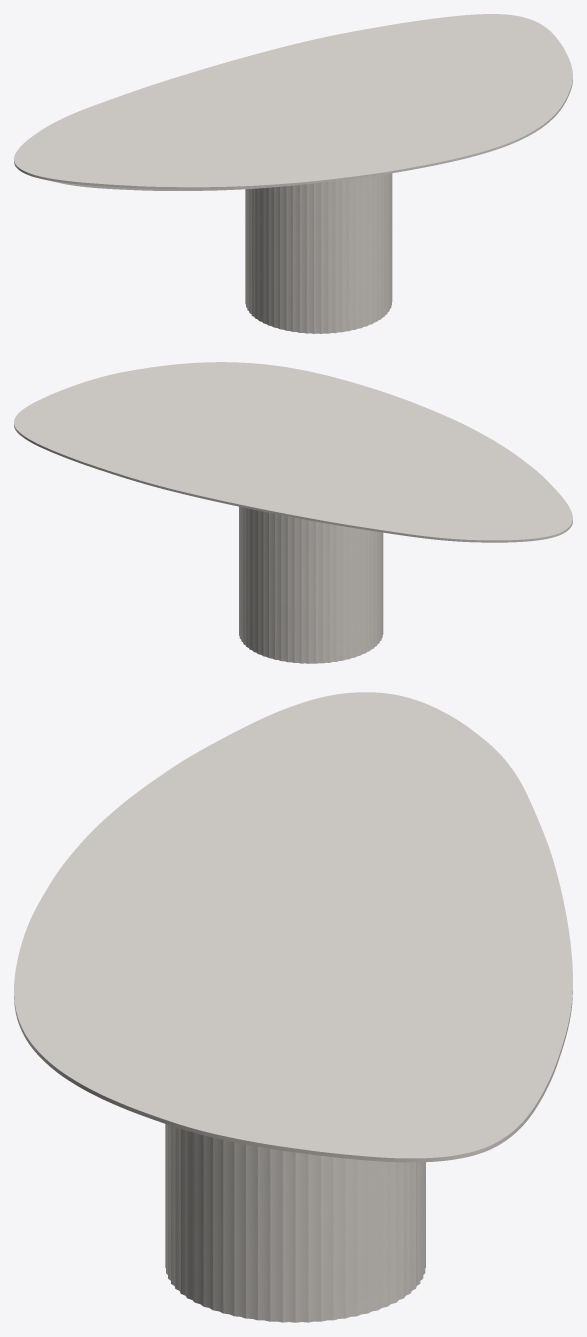
The model's file is pearlwhite_pebbletop_facet_ripple.glb.
3 views of the same model, one above another, from view 1: azimuth 30°, elevation 25°; view 2: azimuth 150°, elevation 25°; view 3: azimuth 270°, elevation 25° (orthographic). The views are drawn at different scales.
Visible parts, largest first — view 1: facet_pebbletop, ripple; view 2: facet_pebbletop, ripple; view 3: facet_pebbletop, ripple.
Boxes of the visible parts, x1=… form: facet_pebbletop: x1=14, y1=14, x2=572, y2=190; ripple: x1=245, y1=173, x2=392, y2=333; facet_pebbletop: x1=14, y1=362, x2=572, y2=542; ripple: x1=239, y1=506, x2=383, y2=663; facet_pebbletop: x1=14, y1=692, x2=572, y2=1162; ripple: x1=165, y1=1124, x2=425, y2=1322.
Bounding box in the file's own units: 7.5 × 2.5 × 3.8.
1 material, 1 textured.
